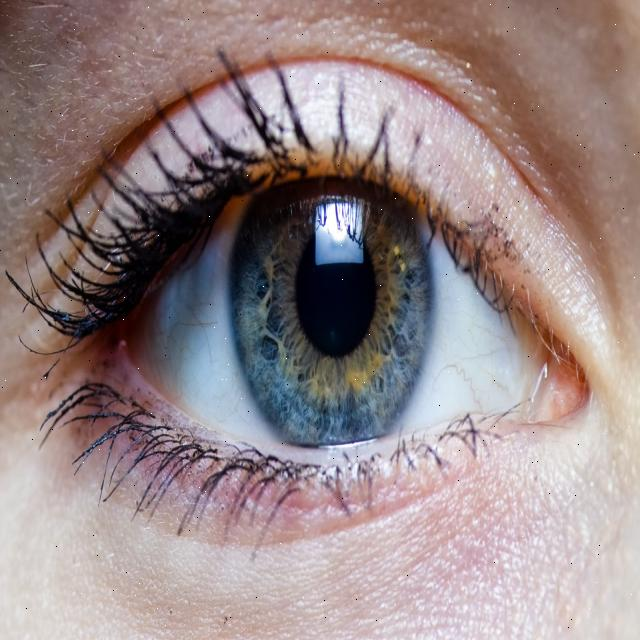Normal: (229, 123, 435, 451)
